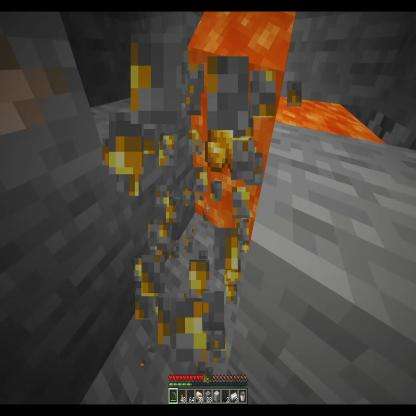iron ore: (0, 0, 103, 181)
